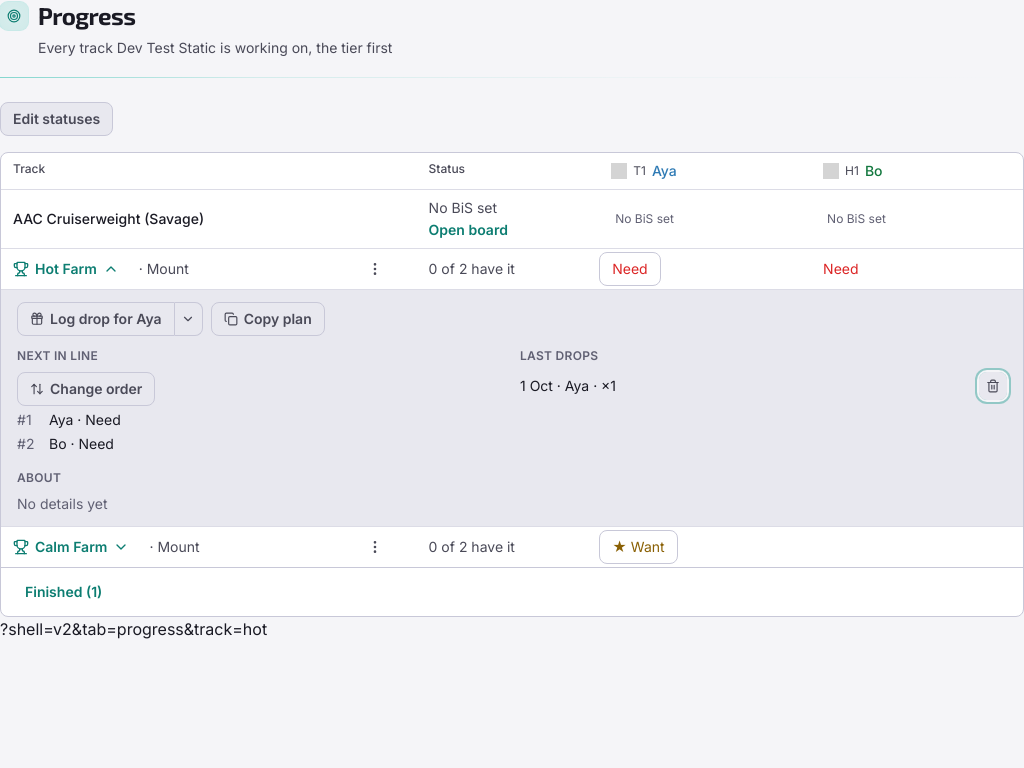
it: ProgressPage open row: Escape in the delete-drop confirm (R-S3-4, vet I-2; S2a-3a·G4 TG6) › closes only the portalled confirm: the panel stays open, ?track is unchanged and focus returns to the delete button
This screenshot has width=1024, height=768.
Click the button named "Delete drop for Aya, " at [993, 386], box [979,372,1007,400]
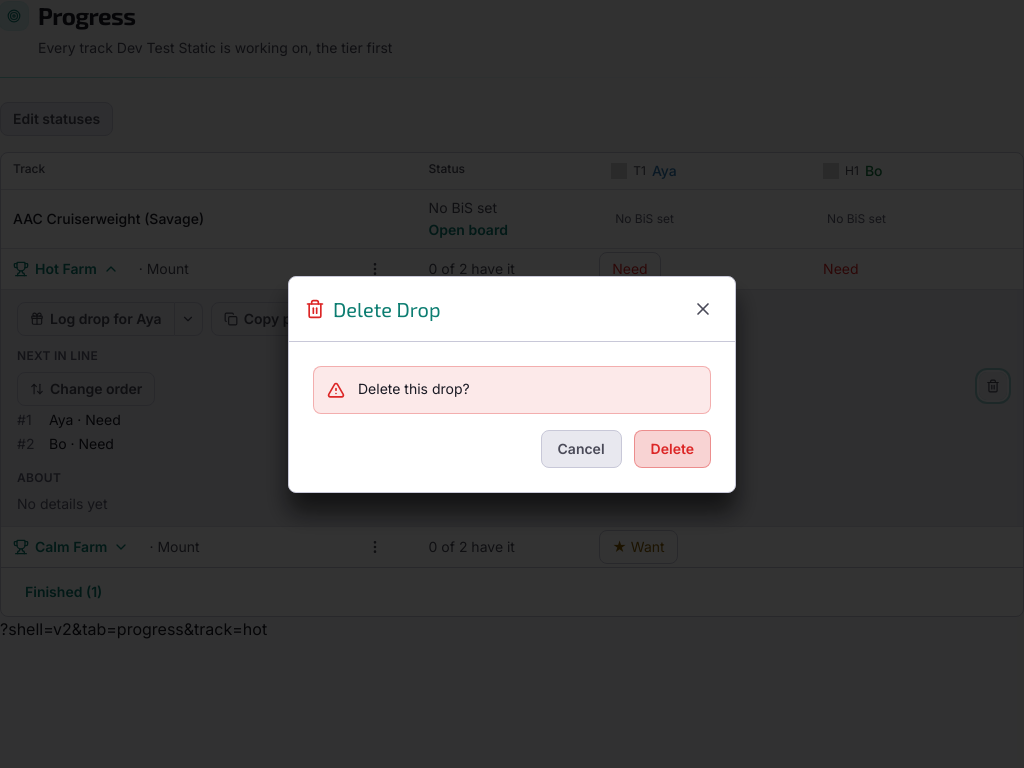
Press Escape in the dialog "Delete Drop", box [288,276,736,492]
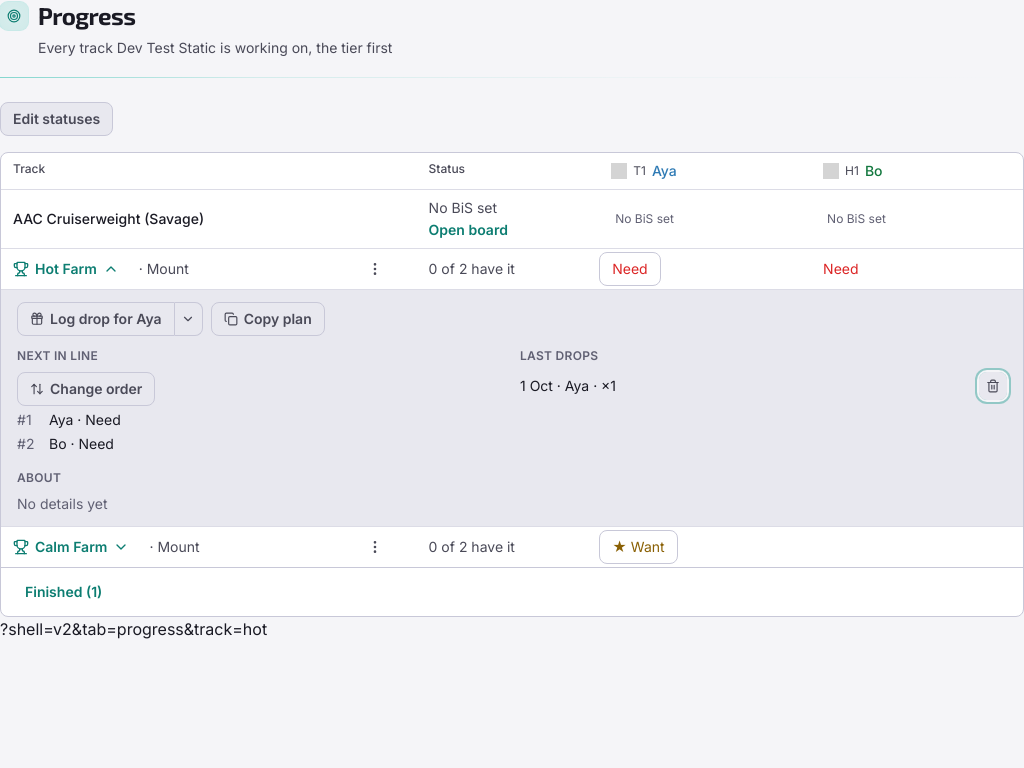
Expected: the row with test id "progress-expansion" is shown, [1,290,1023,526]
Expected: the dialog is gone
